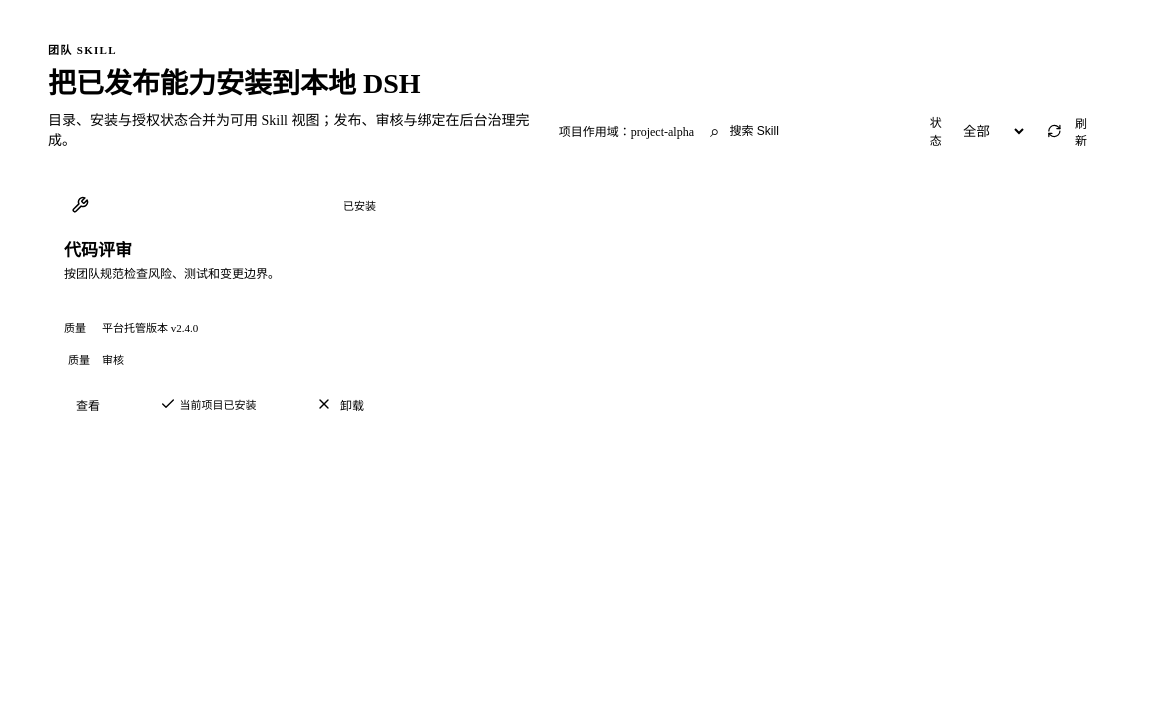
UX-03 Skill 使用路径 › confirms uninstall with an explicit verb and reports the server result
This screenshot has width=1152, height=720.
Expected: the heading "代码评审" is shown, [64,241,132,260]
Click the button "卸载" at (340, 404), box [304,387,376,421]
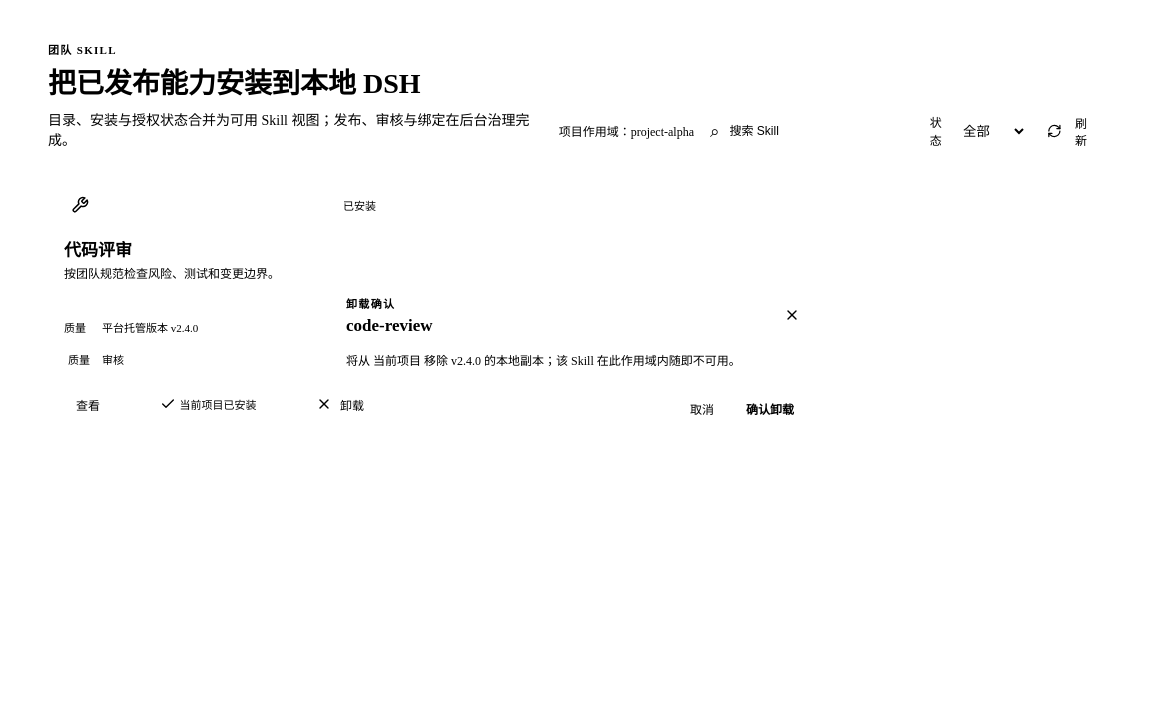
Click the button "确认卸载" at (770, 409), box [734,392,806,426]
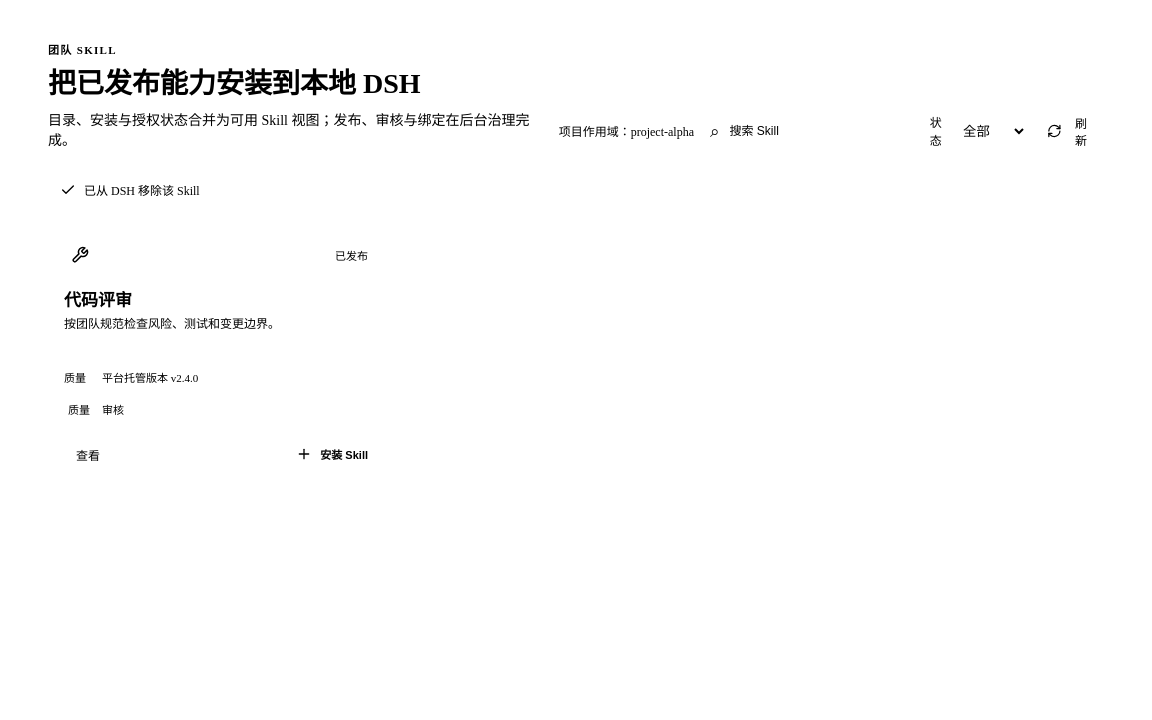
Result: the text "已从 DSH 移除该 Skill" is shown at [84,181,200,199]
